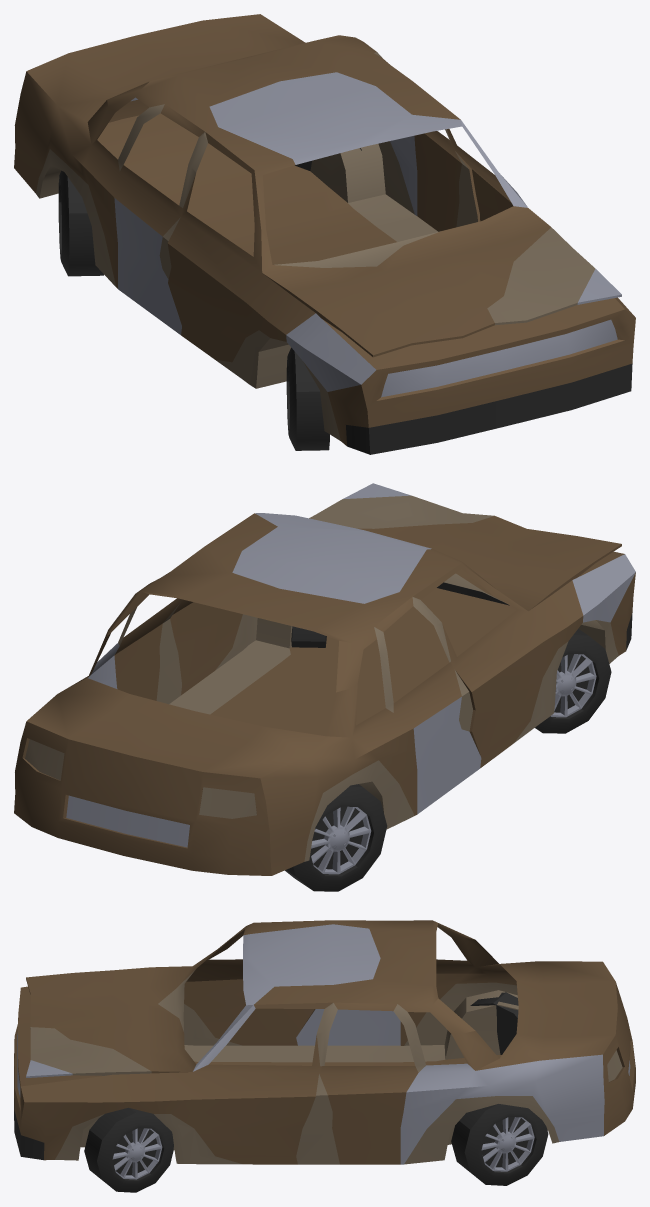
The model's file is car.glb.
The picture shows the model from 3 angles, top to bottom: view 1: azimuth 30°, elevation 25°; view 2: azimuth 150°, elevation 25°; view 3: azimuth 270°, elevation 25°; orthographic projection. The views are drawn at different scales.
Parts seen in each view (by area): view 1: Debris_BrokenCar; view 2: Debris_BrokenCar; view 3: Debris_BrokenCar.
Boxes of the visible parts, left/top/right/bottom form: Debris_BrokenCar: left=14, top=14, right=635, bottom=454; Debris_BrokenCar: left=14, top=483, right=635, bottom=891; Debris_BrokenCar: left=14, top=920, right=635, bottom=1192.
Size of the model in its own units: 2.64 by 1.76 by 5.49.
